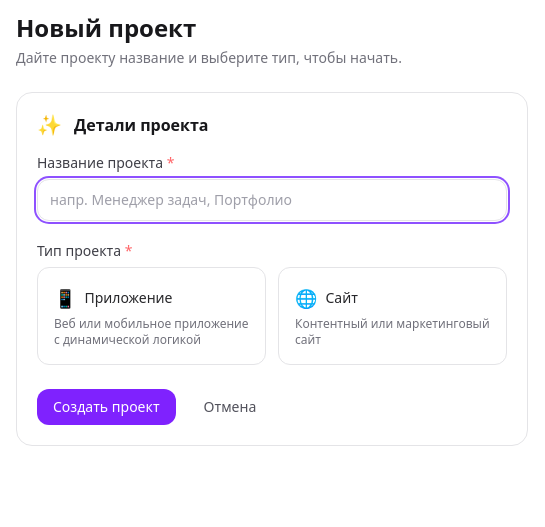
it: B. Validation — errors shown on invalid submit › shows type error when name is filled but no type selected
Type "My Project" into the field labelled "Название проекта *". click: (272, 200)
box: [37,179,507,221]
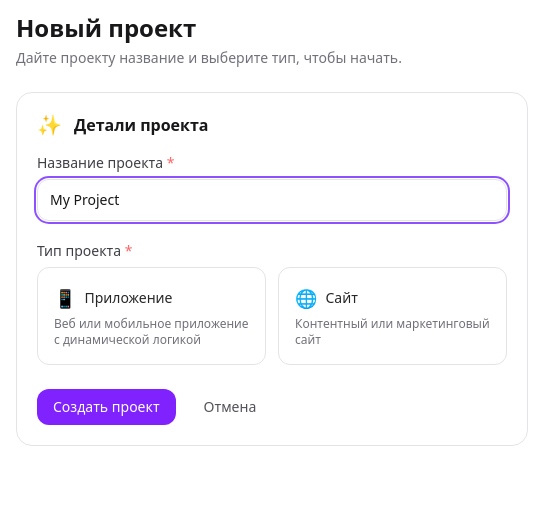
Click the button "Создать проект". click: (106, 407)
box: [37,389,176,425]
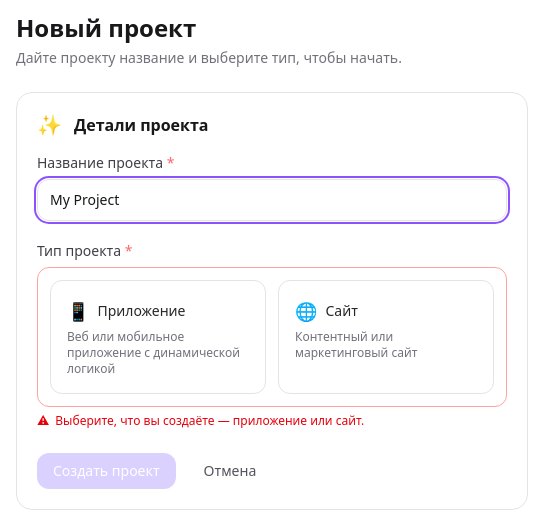
Now the text "⚠ Выберите, что вы создаёте — приложение или сайт." is shown, box [37,412,364,429]
